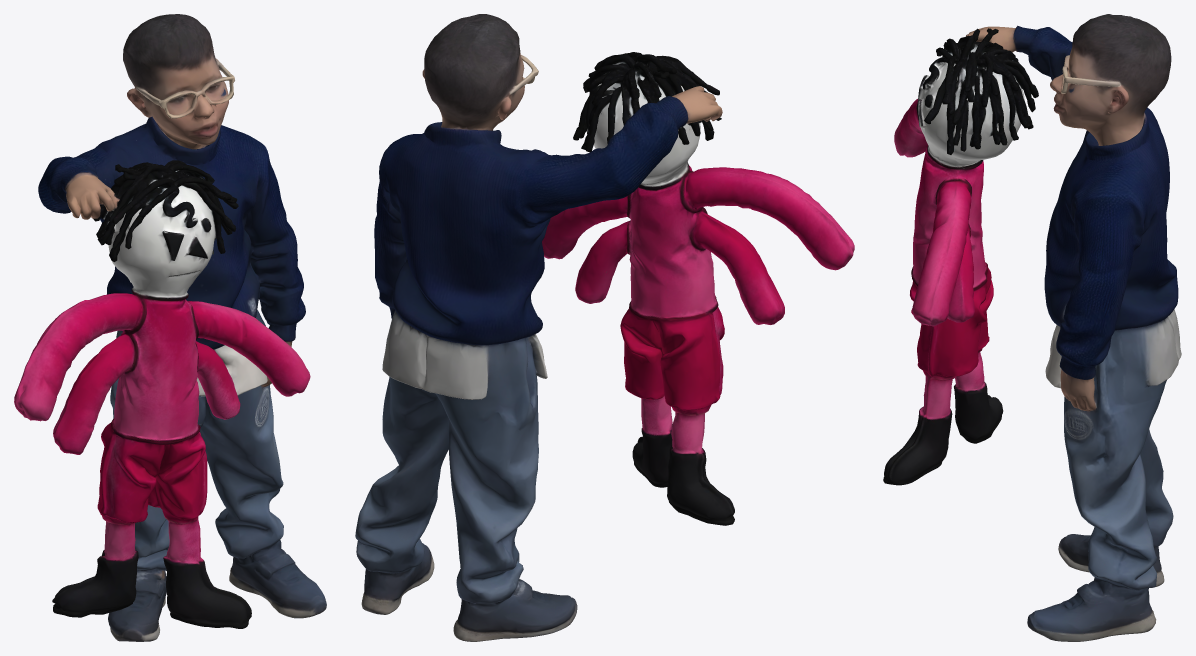
Rendered from Felipe baja.glb.
The picture shows the model from 3 angles, left to right: view 1: azimuth 30°, elevation 25°; view 2: azimuth 150°, elevation 25°; view 3: azimuth 270°, elevation 25°; orthographic projection. The views are drawn at different scales.
Parts seen in each view (by area): view 1: tripo_node_ab563890-20e8-4796-9aa6-a6ebe5e6a029; view 2: tripo_node_ab563890-20e8-4796-9aa6-a6ebe5e6a029; view 3: tripo_node_ab563890-20e8-4796-9aa6-a6ebe5e6a029.
Boxes of the visible parts, box(x1,y1,x2,y2) form: tripo_node_ab563890-20e8-4796-9aa6-a6ebe5e6a029: box(14, 14, 326, 641); tripo_node_ab563890-20e8-4796-9aa6-a6ebe5e6a029: box(355, 14, 854, 641); tripo_node_ab563890-20e8-4796-9aa6-a6ebe5e6a029: box(883, 14, 1181, 641).
Size of the model in its own units: 0.6795 by 1 by 0.476.
Materials: 1 (1 with a texture image).
